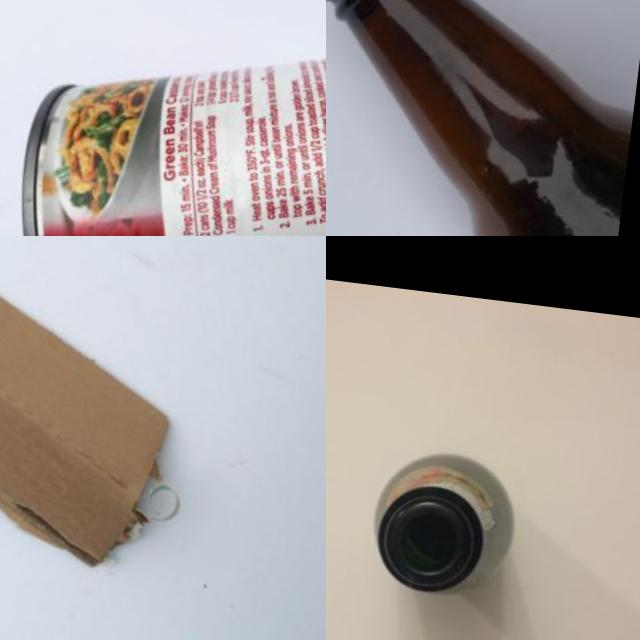garrafa de vidro: (326, 0, 640, 236), (369, 444, 524, 603)
lata: (1, 0, 326, 236)
papelão: (0, 236, 206, 573)
